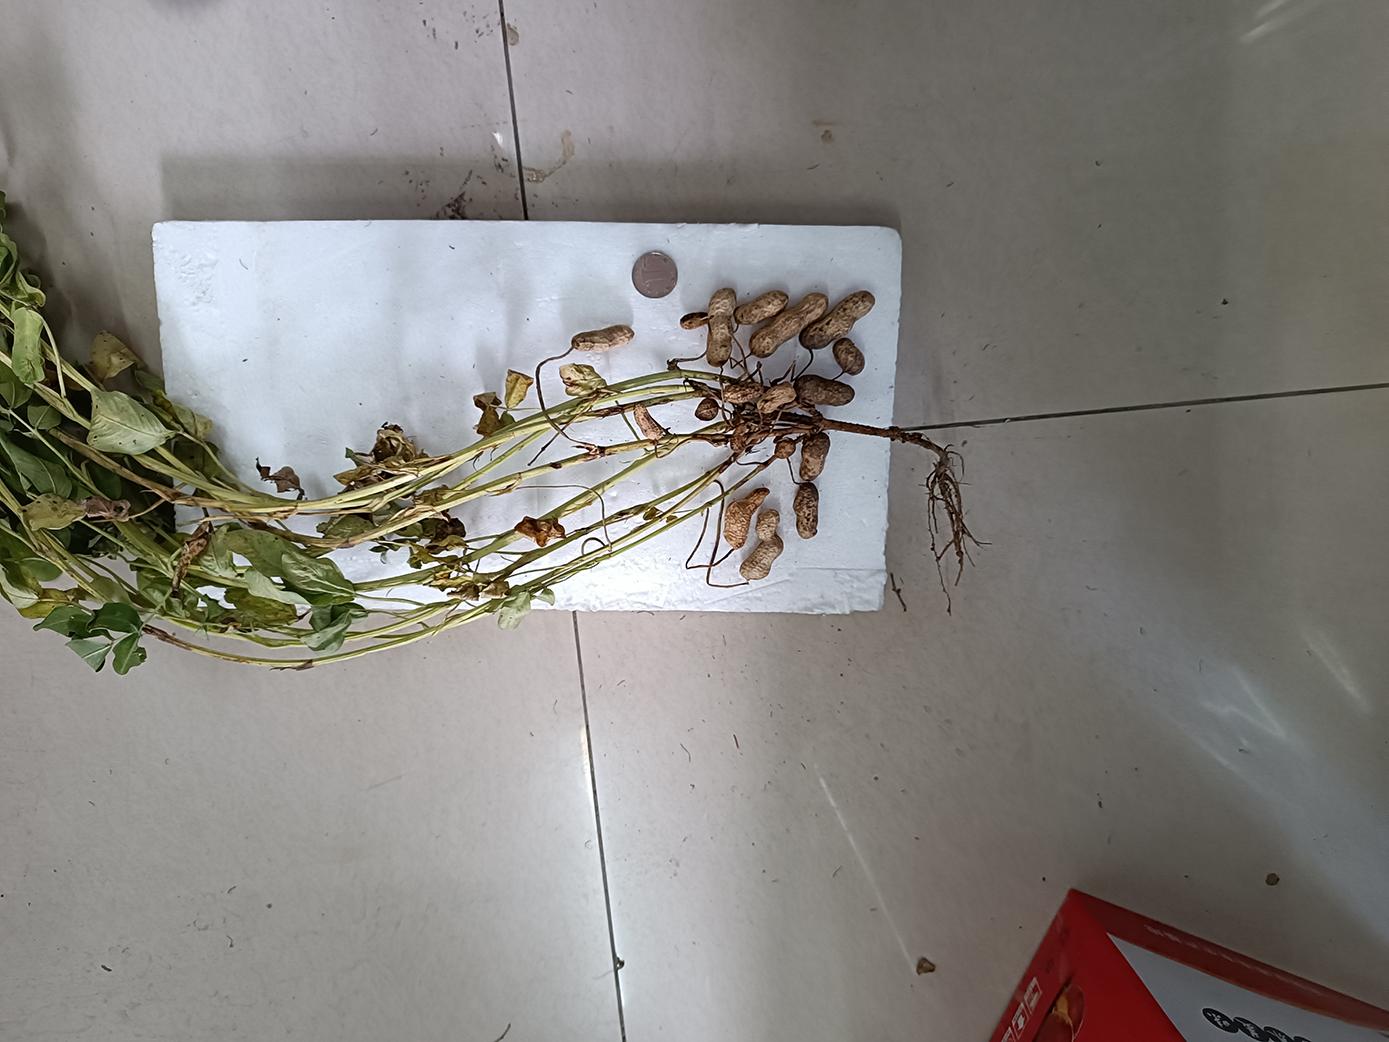h: (750, 292, 826, 357), (799, 290, 873, 351), (739, 509, 783, 581), (724, 487, 771, 549), (706, 287, 736, 367), (734, 291, 789, 324), (572, 325, 636, 352), (792, 483, 821, 541), (799, 435, 831, 481), (634, 402, 665, 442), (759, 384, 796, 413), (722, 383, 764, 406), (773, 437, 797, 460), (680, 311, 708, 329), (695, 398, 718, 421)
l: (794, 375, 856, 408), (831, 340, 867, 377)
